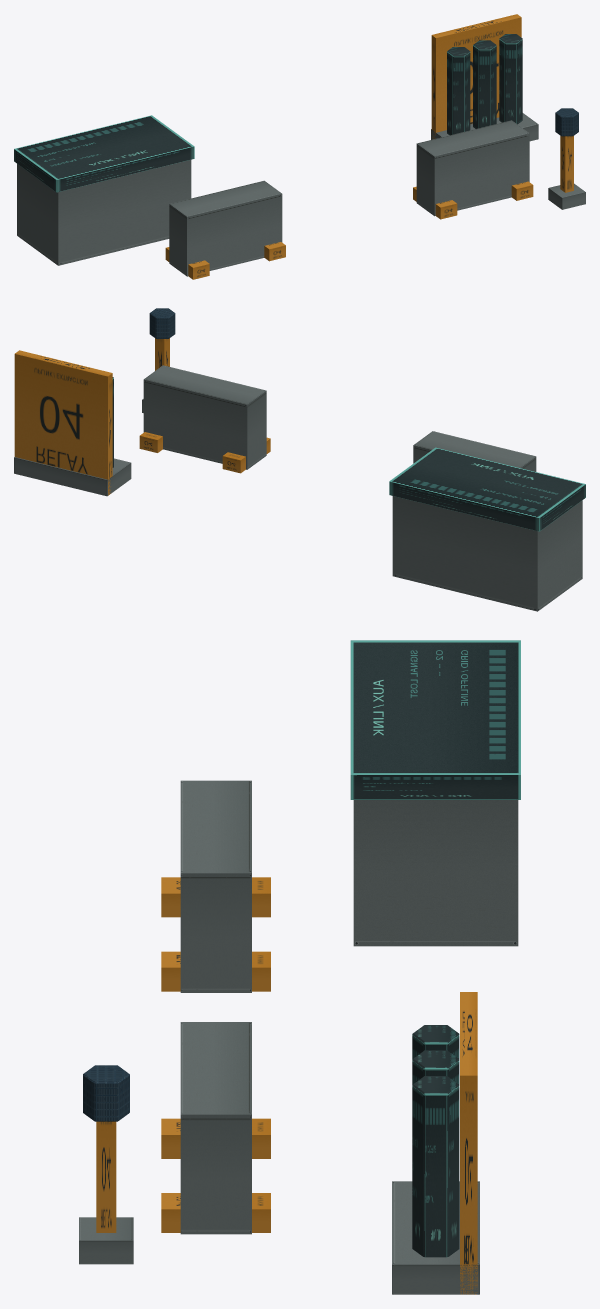
Rendered from CoverCheckpoint_LOD3.obj.
3 views of the same model, one above another, from view 1: azimuth 30°, elevation 25°; view 2: azimuth 150°, elevation 25°; view 3: azimuth 270°, elevation 25° (orthographic). The views are drawn at different scales.
Parts seen in each view (by area): view 1: 002_cargo_container.003, 003_oxygen_rack.003, 001_barricade_2m.003, 000_barricade_2m.003, 004_warning_beacon.003; view 2: 002_cargo_container.003, 003_oxygen_rack.003, 001_barricade_2m.003, 000_barricade_2m.003, 004_warning_beacon.003; view 3: 002_cargo_container.003, 003_oxygen_rack.003, 000_barricade_2m.003, 001_barricade_2m.003, 004_warning_beacon.003.
Boxes of the visible parts, x1,y1,x2,y2 form: 002_cargo_container.003: [14, 115, 194, 265]; 003_oxygen_rack.003: [431, 14, 538, 141]; 001_barricade_2m.003: [413, 120, 533, 219]; 000_barricade_2m.003: [165, 180, 285, 279]; 004_warning_beacon.003: [548, 108, 585, 209]; 002_cargo_container.003: [389, 447, 585, 611]; 003_oxygen_rack.003: [14, 350, 131, 496]; 001_barricade_2m.003: [139, 365, 270, 473]; 000_barricade_2m.003: [413, 431, 536, 471]; 004_warning_beacon.003: [142, 308, 175, 412]; 002_cargo_container.003: [350, 640, 520, 946]; 003_oxygen_rack.003: [392, 992, 479, 1294]; 000_barricade_2m.003: [161, 780, 270, 992]; 001_barricade_2m.003: [161, 1022, 270, 1234]; 004_warning_beacon.003: [79, 1065, 133, 1264].
Bounding box in the file's own units: 10.35 × 2.2 × 4.03.
Materials: 1 (1 with a texture image).
